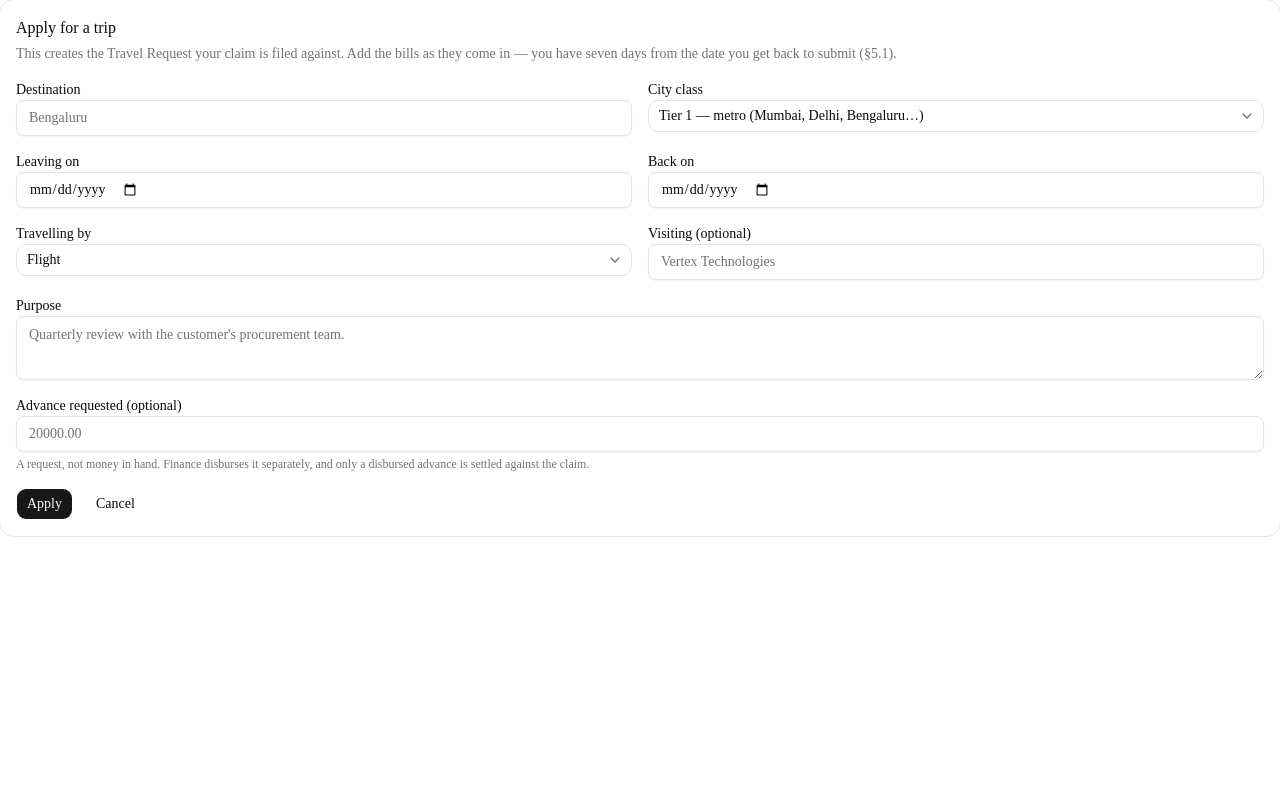
Test: NewTripForm › refuses a trip that ends before it begins, next to the field that is wrong
Type "Pune" into the field labelled "Destination" at [324, 118], box x1=16 y1=100 x2=632 y2=136
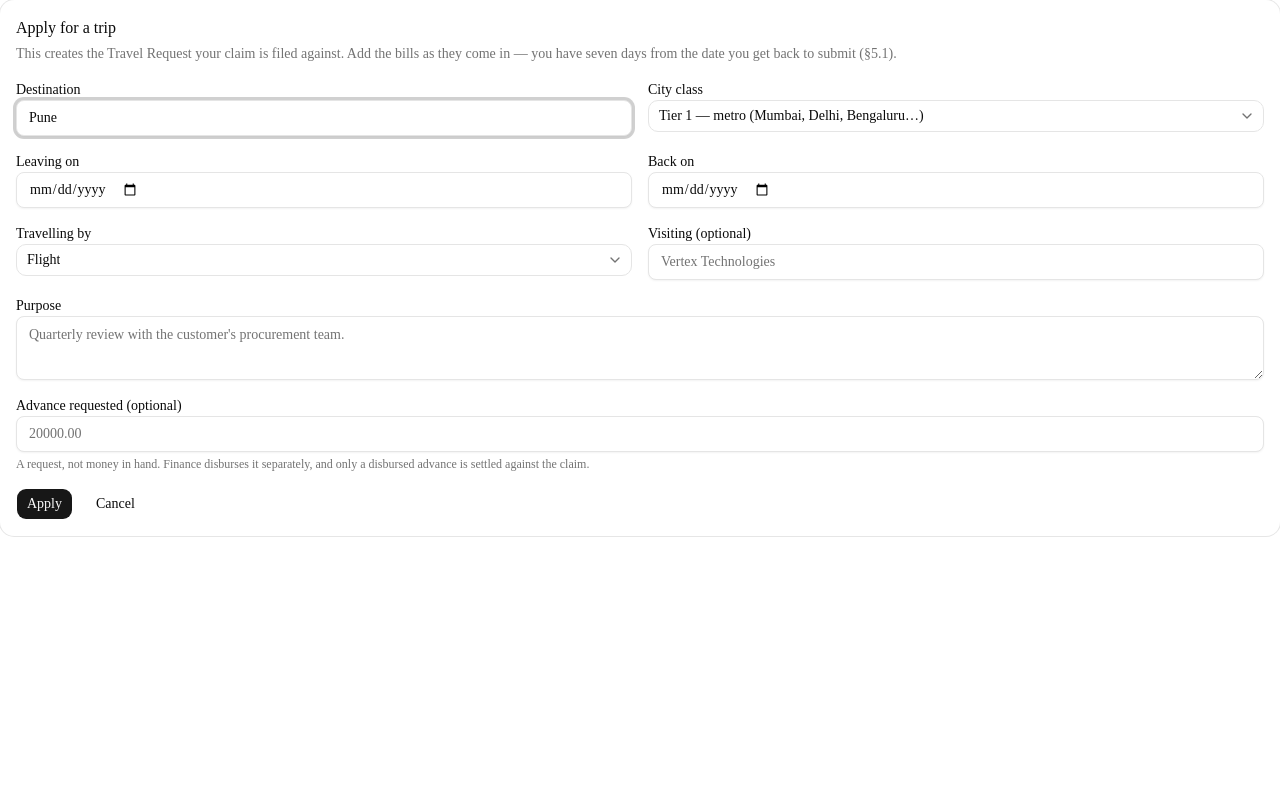
Type "Commissioning review" into the text box labelled "Purpose" at [640, 348], box x1=16 y1=316 x2=1264 y2=380
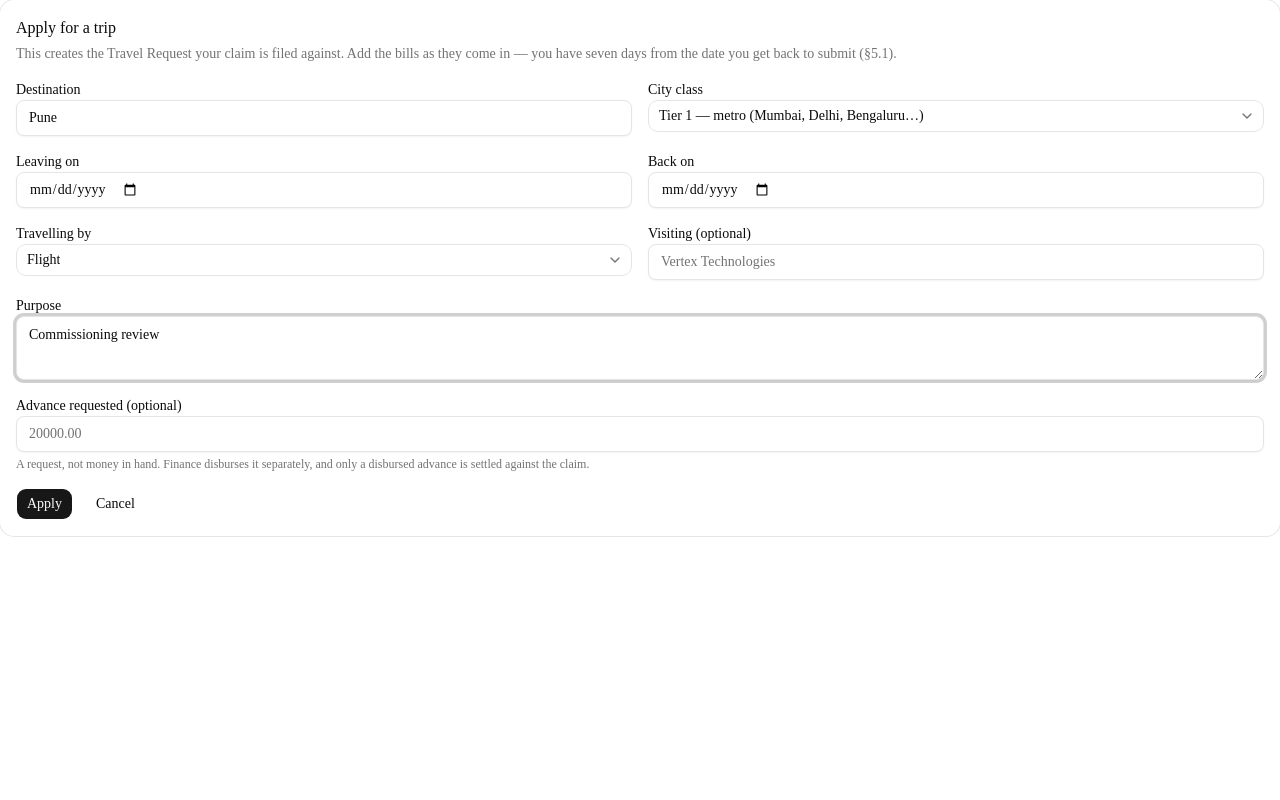
Type "2026-08-06" into the date field labelled "Leaving on" at [324, 190], box x1=16 y1=172 x2=632 y2=208
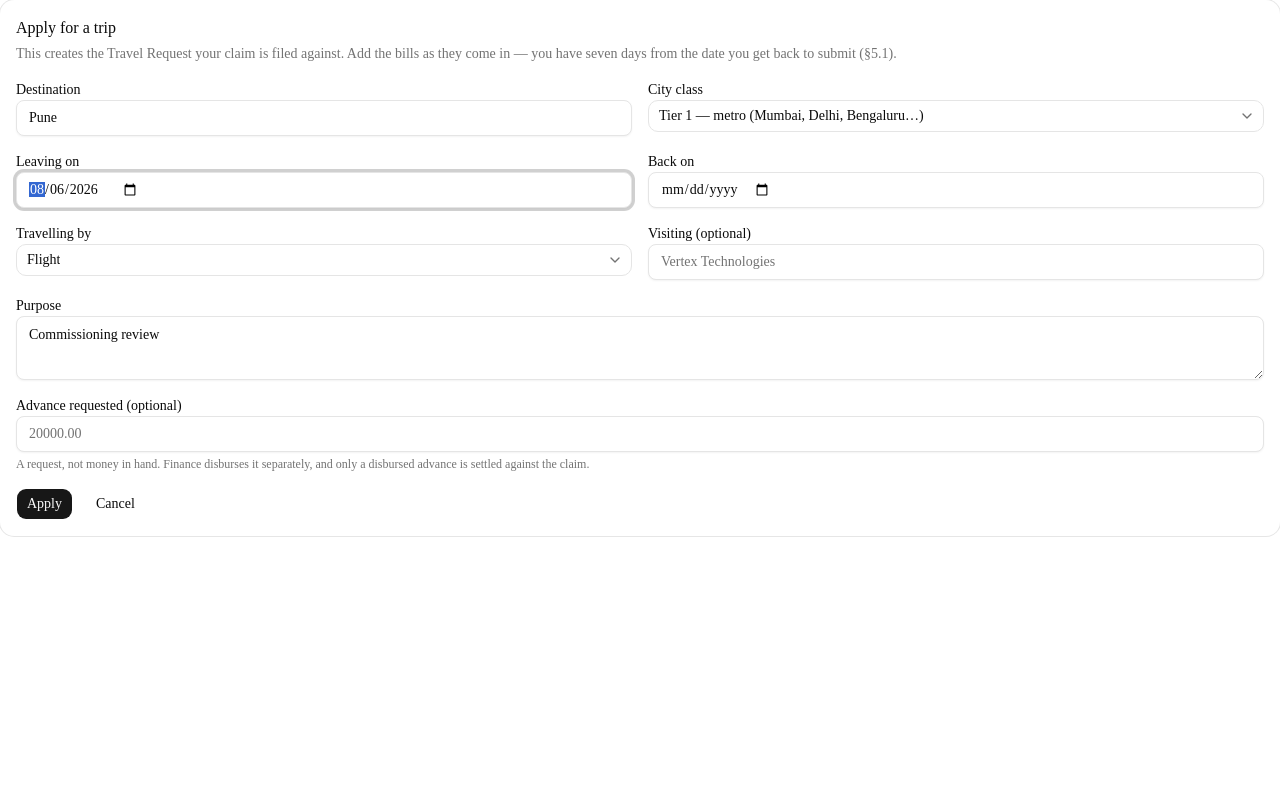
Type "2026-08-03" into the date field labelled "Back on" at [956, 190], box x1=648 y1=172 x2=1264 y2=208
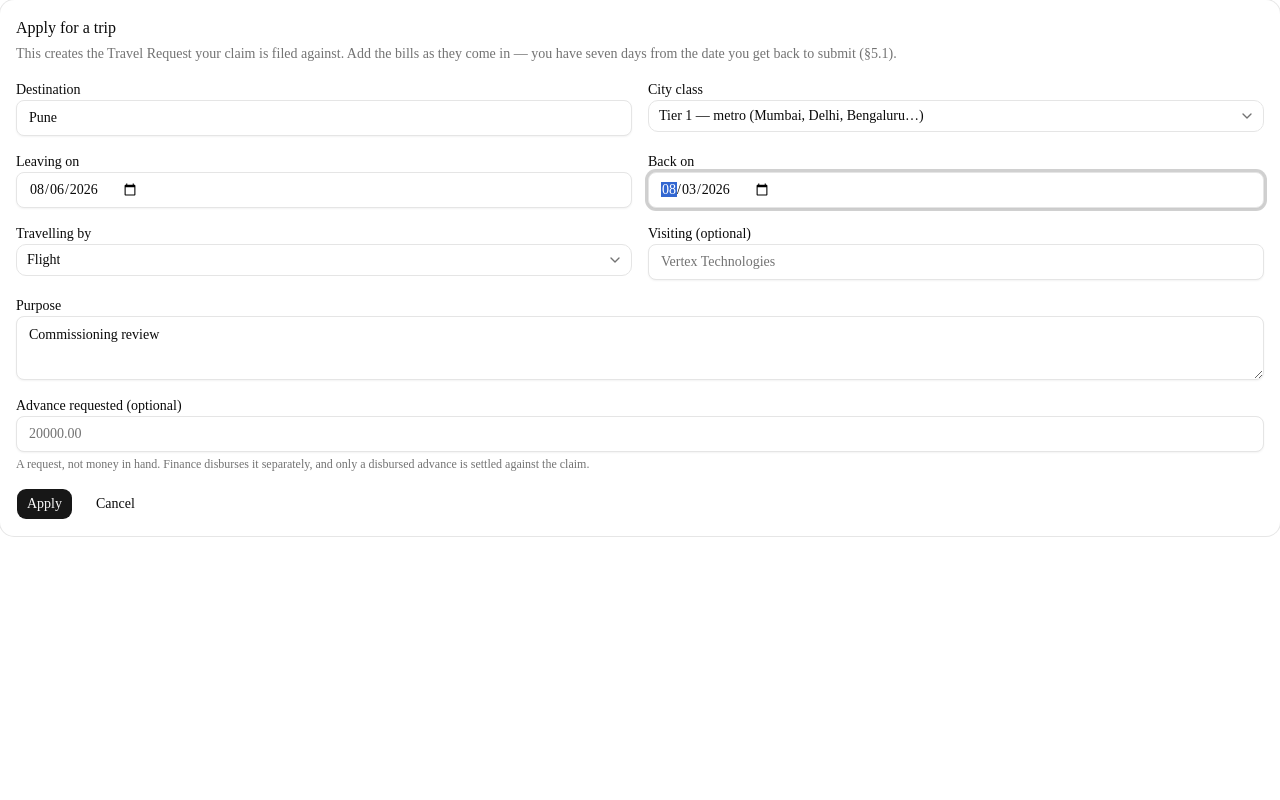
Click the button "Apply" at [44, 504], box x1=16 y1=488 x2=73 y2=520
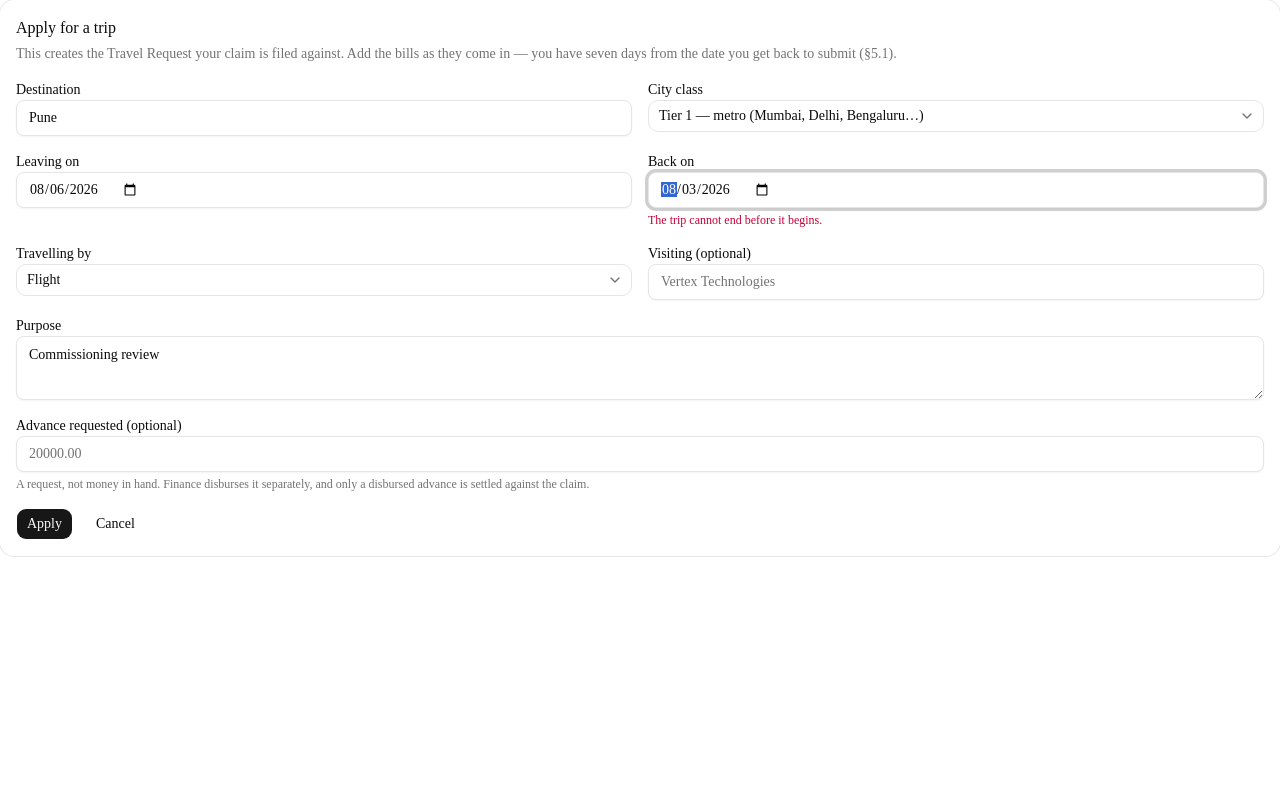
Check: the text "The trip cannot end before it begins." is shown, box x1=648 y1=213 x2=822 y2=227
